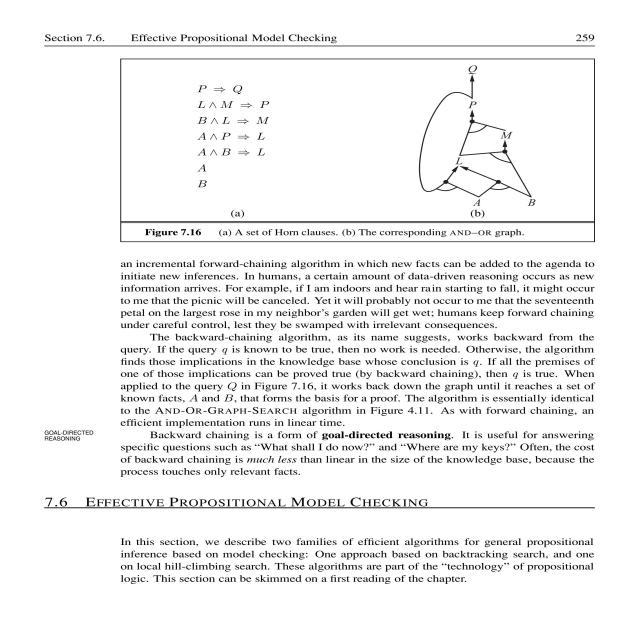diagram: (117, 58, 619, 244)
